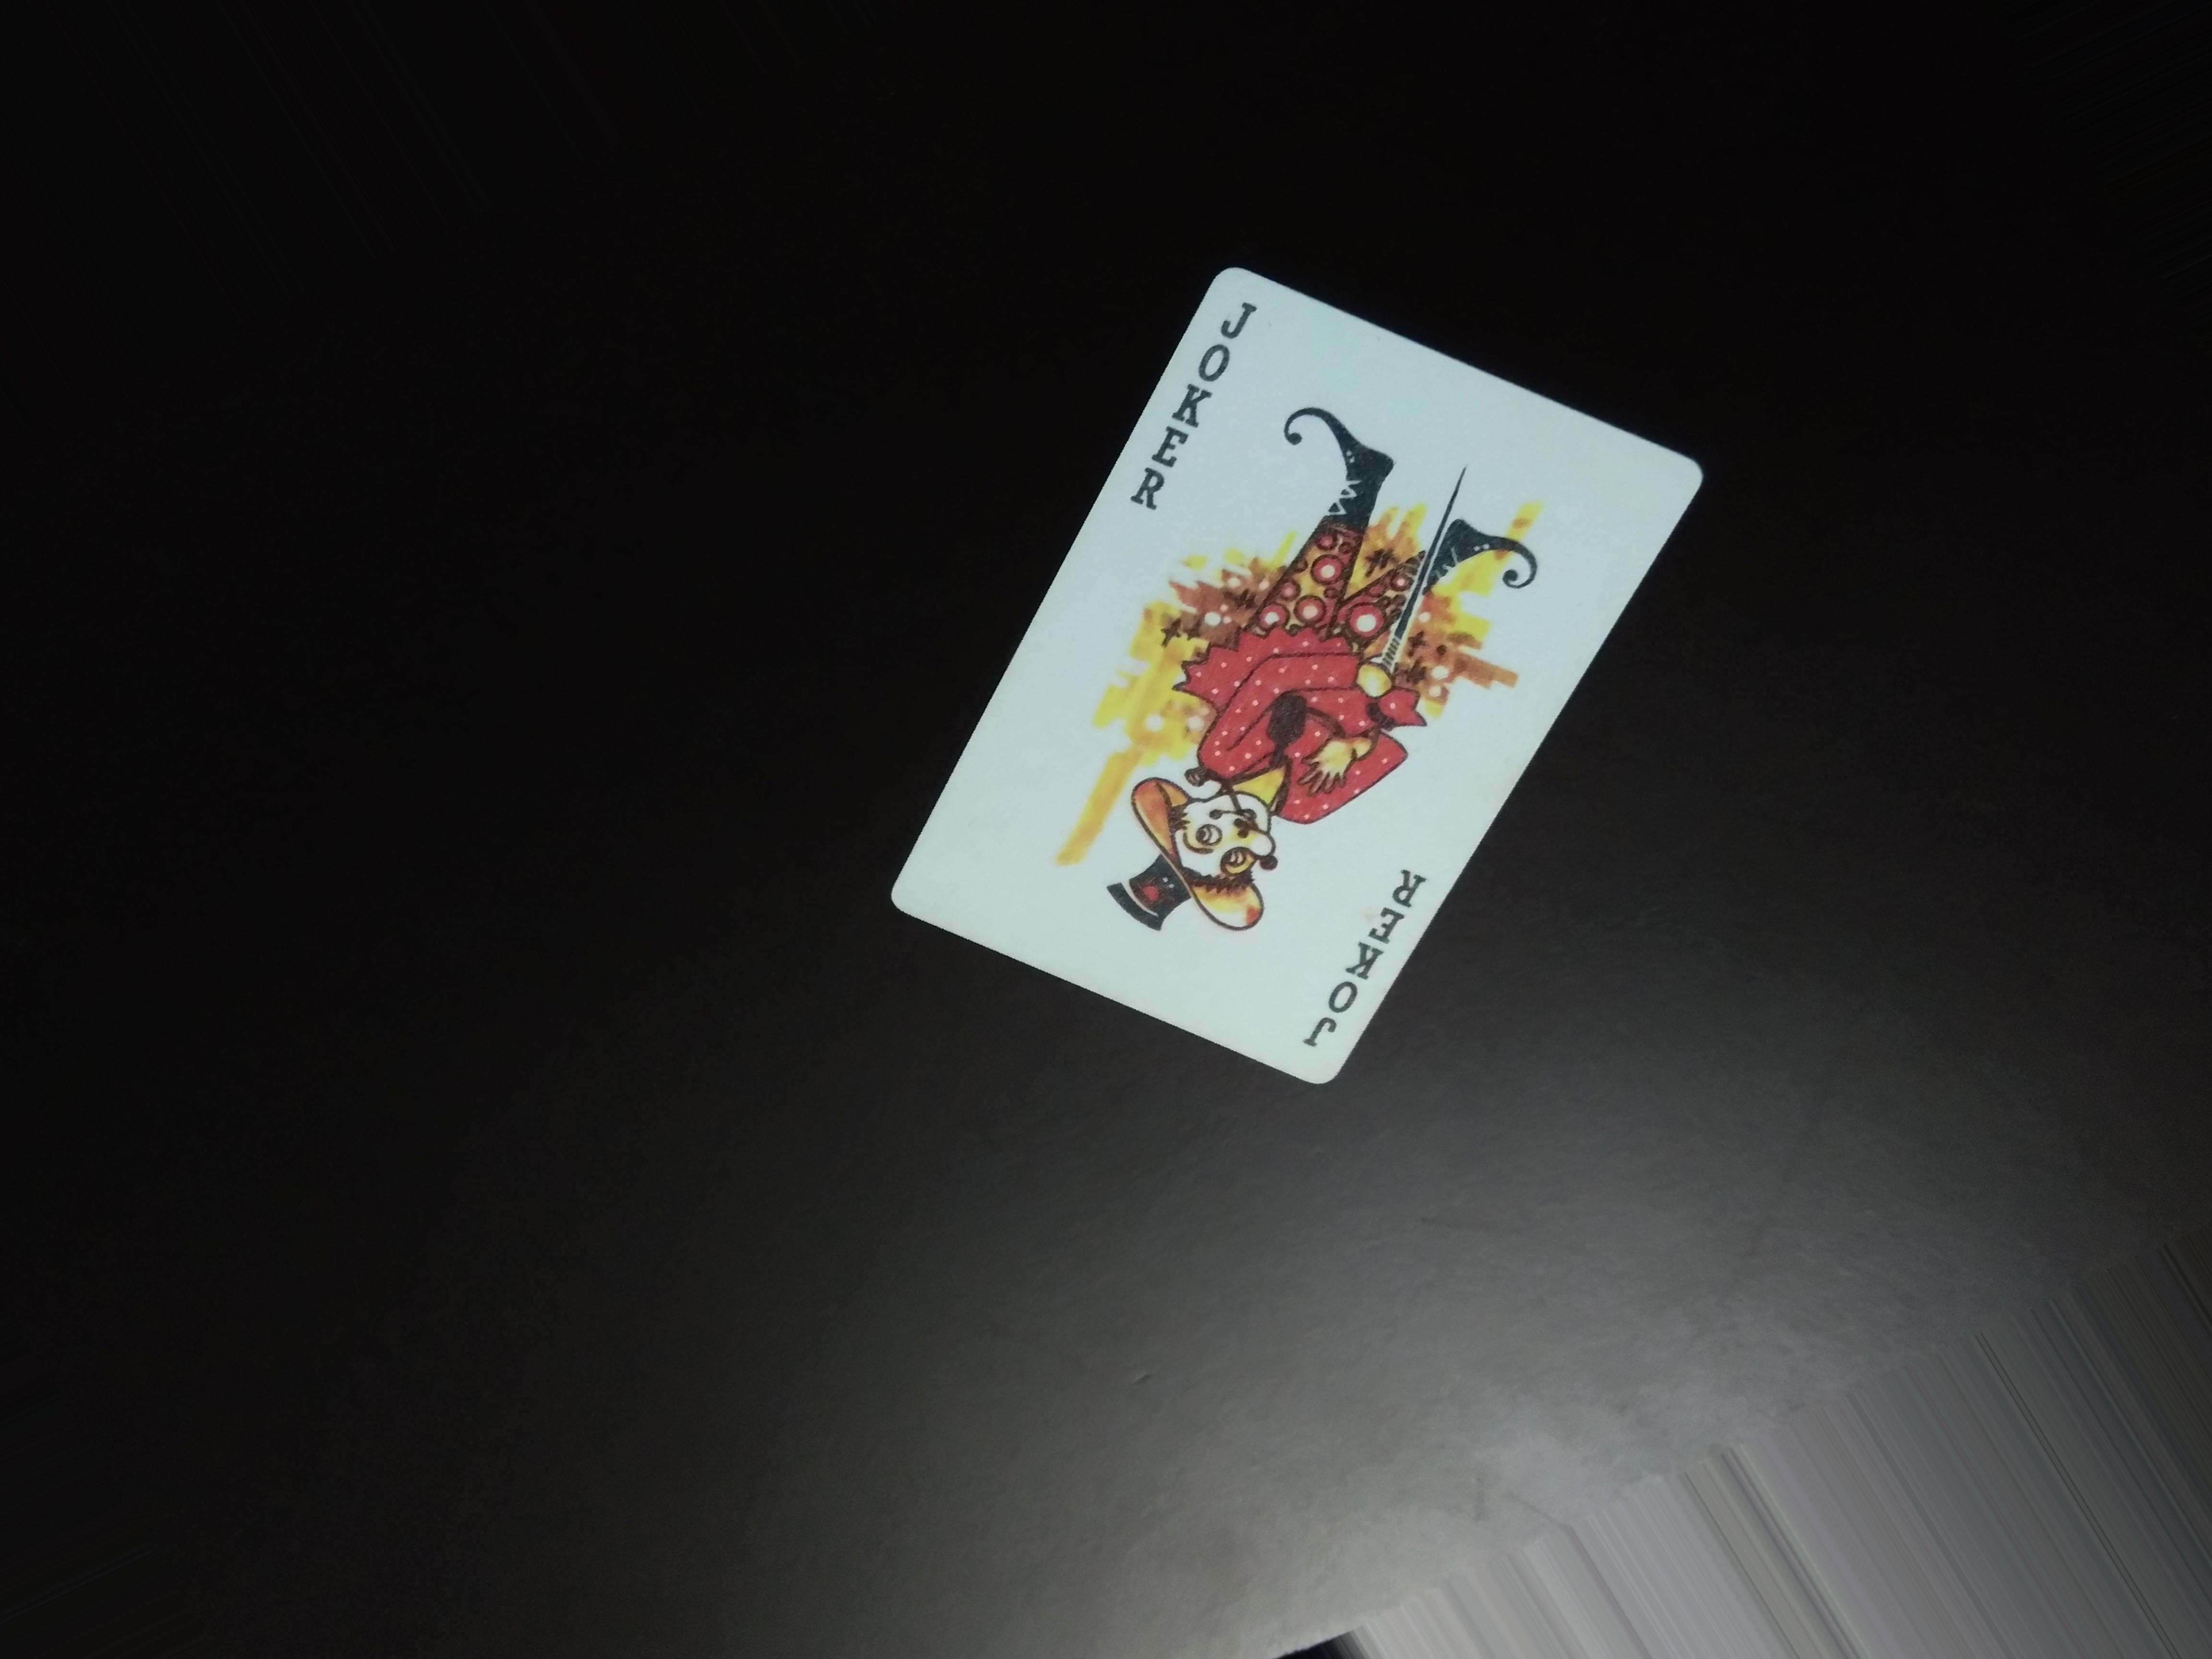JOKER: (1292, 857, 1440, 1058)
